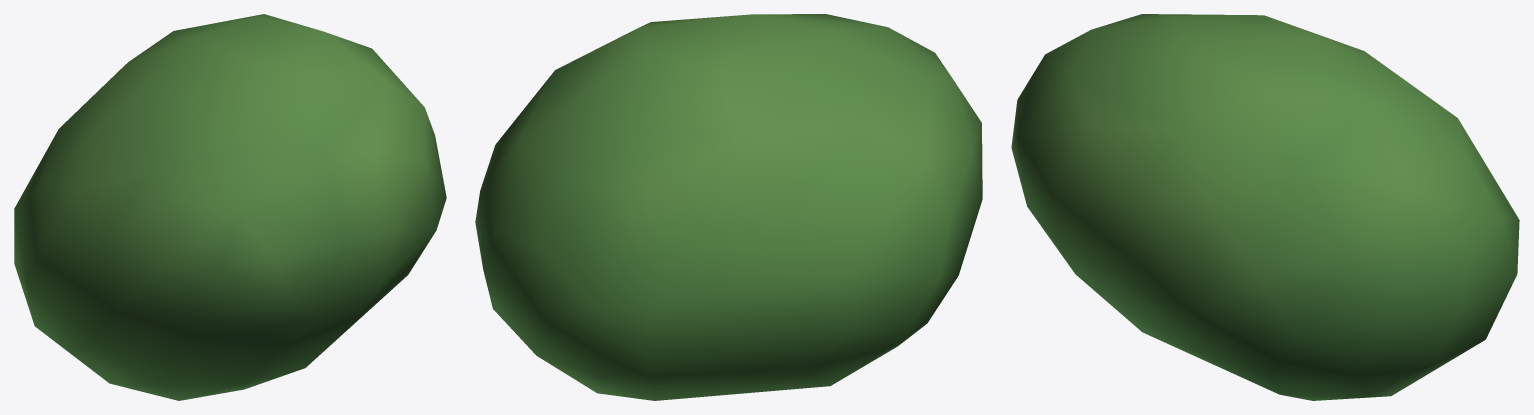
File: env_sky_shrub_lite.glb
3 renders of one model, left to right at view 1: azimuth 30°, elevation 25°; view 2: azimuth 150°, elevation 25°; view 3: azimuth 270°, elevation 25°, orthographic. The views are drawn at different scales.
Visible parts, largest first — view 1: SM_sky_sky_vc_x0_z0.023; view 2: SM_sky_sky_vc_x0_z0.023; view 3: SM_sky_sky_vc_x0_z0.023.
Part boxes in pixels (<box>): SM_sky_sky_vc_x0_z0.023: <box>14,14,446,400</box>; SM_sky_sky_vc_x0_z0.023: <box>475,14,982,400</box>; SM_sky_sky_vc_x0_z0.023: <box>1011,14,1519,400</box>.
Bounding box in the file's own units: 1 × 0.7433 × 1.04.
